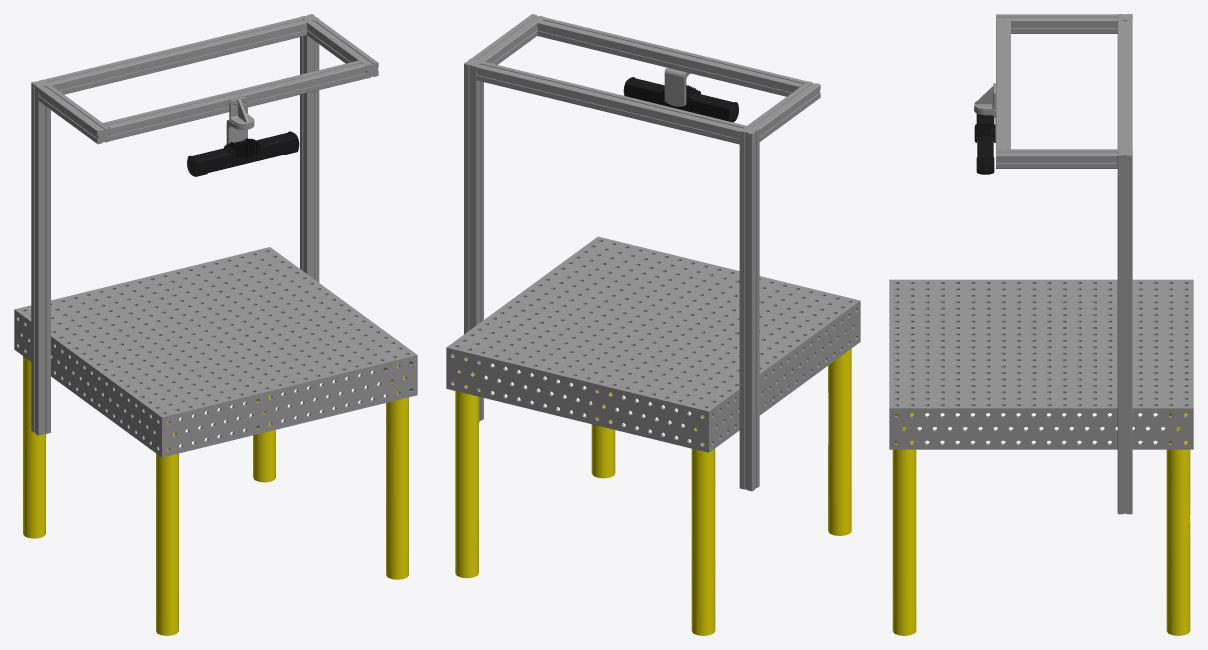
File: table.dae
3 renders of one model, left to right at view 1: azimuth 30°, elevation 25°; view 2: azimuth 150°, elevation 25°; view 3: azimuth 270°, elevation 25°, orthographic. The views are drawn at different scales.
Parts seen in each view (by area): view 1: workcell_5 (×31); view 2: workcell_5 (×32); view 3: workcell_5 (×19).
Part boxes in pixels (x1,y1,x2,y2): workcell_5 (×31): [14, 17, 417, 635]; workcell_5 (×32): [446, 17, 859, 635]; workcell_5 (×19): [889, 20, 1193, 635].
Bounding box in the file's own units: 1.1 × 1 × 1.77.
